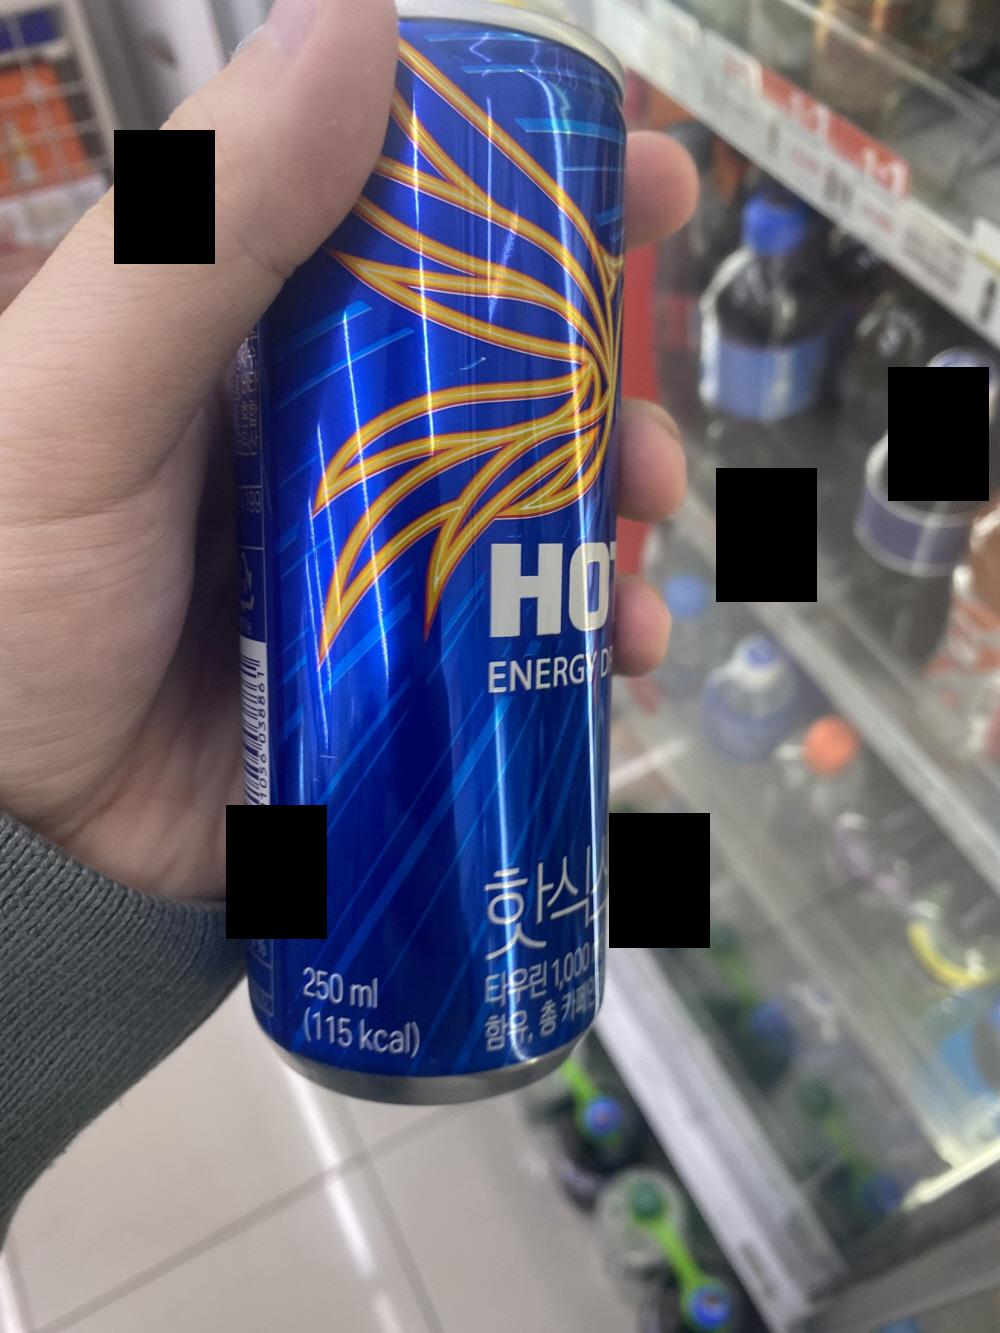hotsix_org: (255, 0, 622, 1094)
